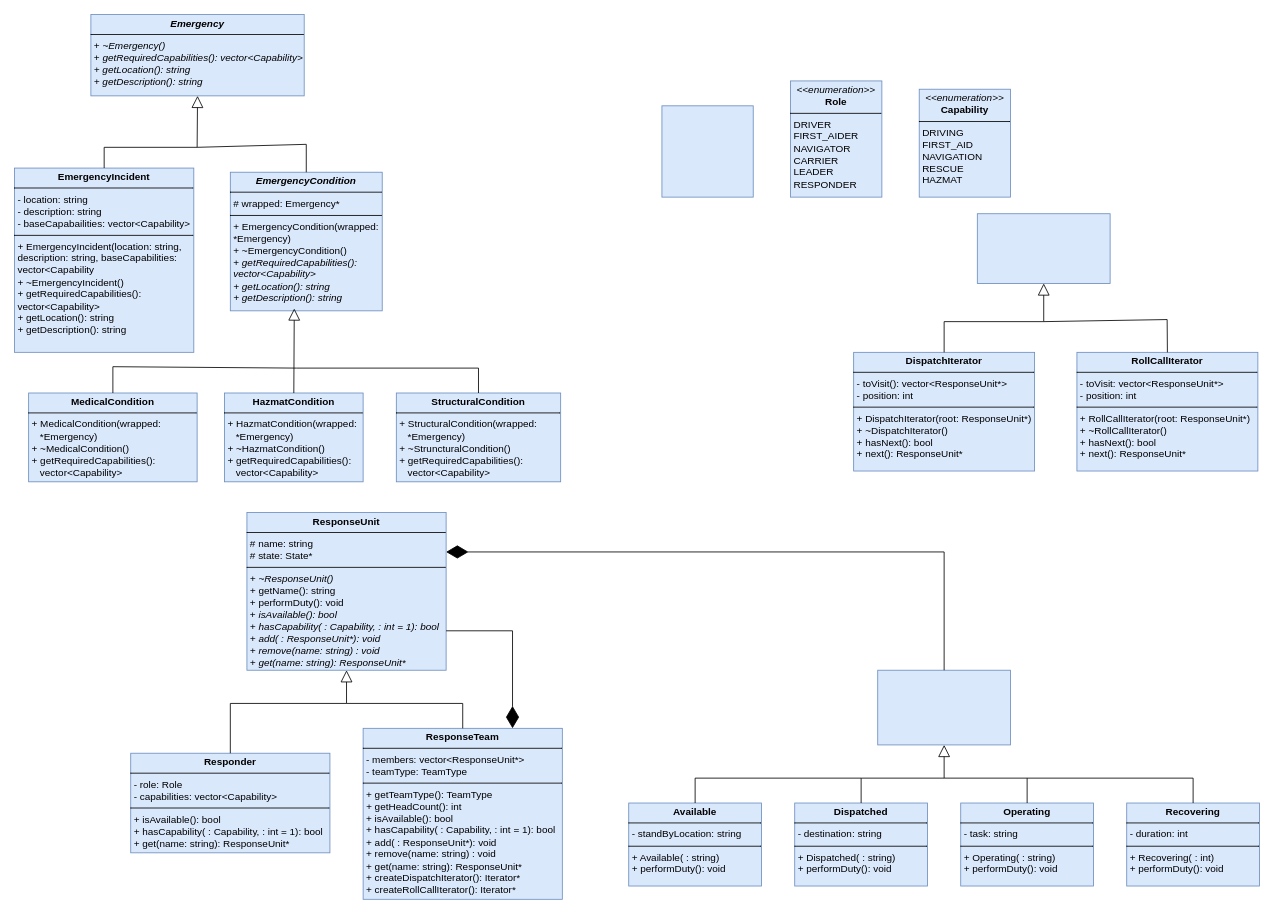
Image size: 1274x914. Some labels were removed from this diagram. The shapes that lost their labels are listed below. From the top down, each one's box as (x1, y1, x2, y2) in pixels, then its label:
(661, 105, 753, 197): <<enumeration>> TeamType MEDICAL RESCUE TRANSPORT HAZMAT
(976, 213, 1110, 283): Iterator + ~Iterator() + hasNext(): bool + next(): ResponseUnit*
(877, 669, 1011, 745): State + ~State() + performDuty(): void
